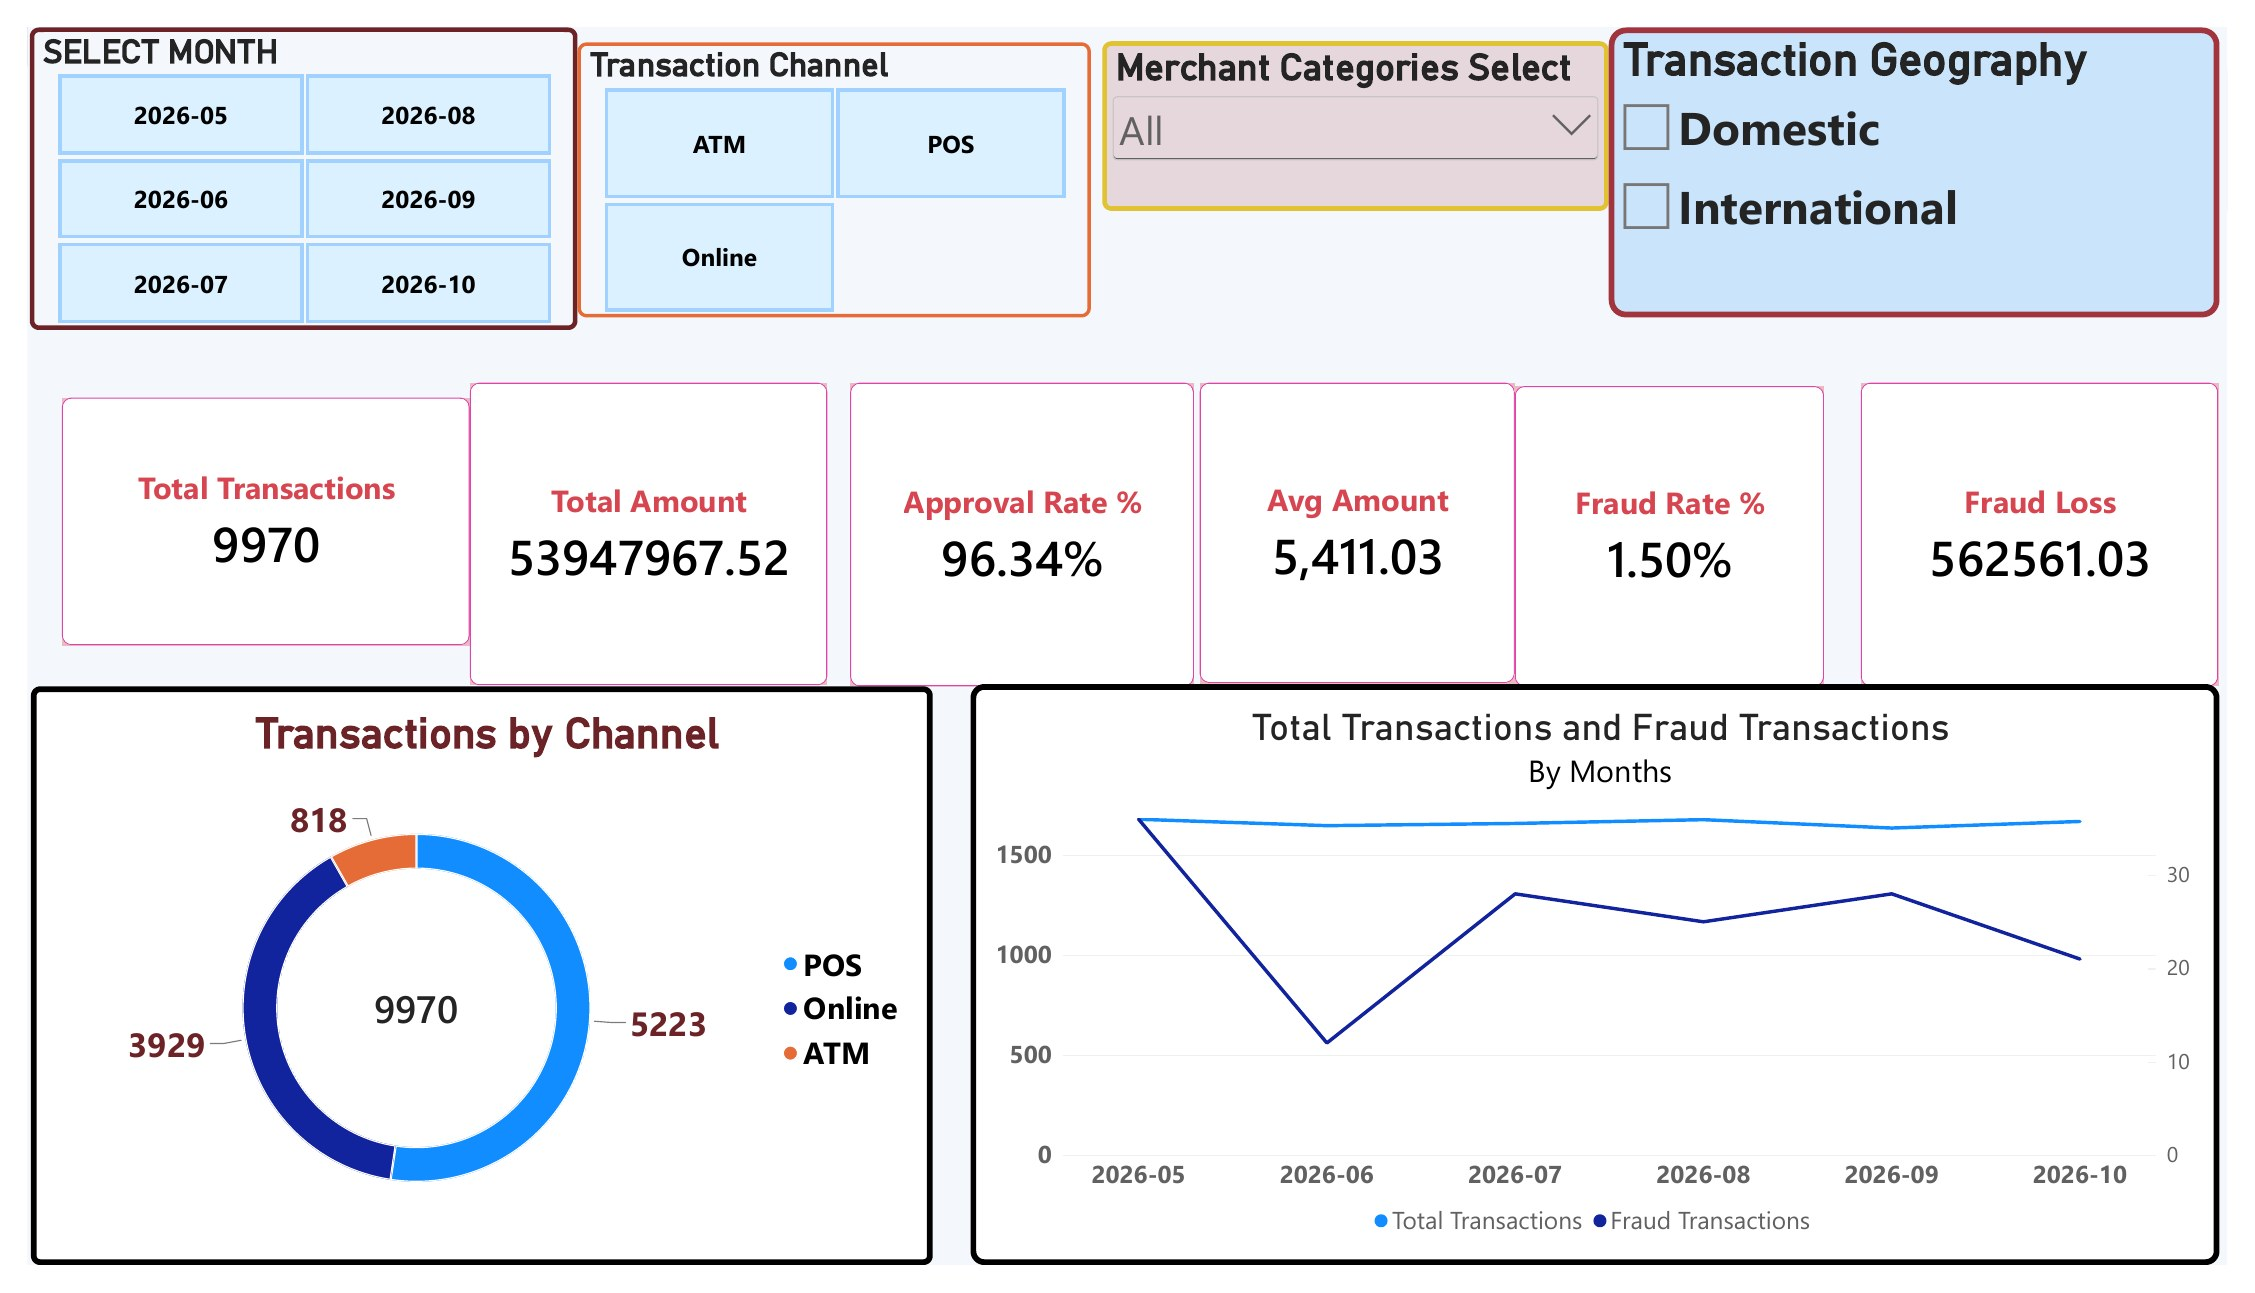

The dashboard page shown, as its layout file describes it:
{"tool":"powerbi","page":{"name":"Executive Overview","canvas":[1920,1080],"ordinal":0},"visuals":[{"type":"slicer","fields":{"Values":["cc.Txn_Month"]},"box":[2,0,478.4,264.5],"z":0},{"type":"slicer","fields":{"Values":["cc.Transaction_Channel"]},"box":[480,12.5,447.5,240],"z":1000},{"type":"slicer","fields":{"Values":["cc.Merchant_Category"]},"box":[938,12,442,148],"z":2000},{"type":"slicer","fields":{"Values":["cc.Domestic_International_Flag"]},"box":[1380,0,532.5,252.5],"z":3000},{"type":"cardVisual","fields":{"Data":["cc.Total Transactions"]},"box":[30,323.3,356.7,216.7],"z":4000},{"type":"cardVisual","fields":{"Data":["cc.Total Amount"]},"box":[386,310,312,264],"z":5000},{"type":"cardVisual","fields":{"Data":["cc.Avg Amount"]},"box":[1022.5,310,275,262.5],"z":6000},{"type":"cardVisual","fields":{"Data":["cc.Approval Rate %"]},"box":[717.5,310,300,265],"z":7000},{"type":"cardVisual","fields":{"Data":["cc.Fraud Rate %"]},"box":[1297.5,312.5,270,262.5],"z":8000},{"type":"cardVisual","fields":{"Data":["cc.Fraud Loss"]},"box":[1600,310,312.5,265],"z":9000},{"type":"lineChart","title":"Total Transactions and Fraud Transactions","fields":{"Category":["cc.Txn_Month"],"Y":["cc.Total Transactions"],"Y2":["cc.Fraud Transactions"]},"box":[822.5,572.5,1090,507.5],"z":10000},{"type":"donutChart","title":"Transactions by Channel","fields":{"Category":["cc.Transaction_Channel"],"Y":["CountNonNull(cc.Transaction_Channel)"]},"box":[2.5,575,787.5,505],"z":11000}]}

Visuals, with their boxes in screenshot pixels (x1, y1, x2, y2), scaled from the page's 1920x1080 canvas onto the 2255x1293 screenshot:
slicer - cc.Txn_Month: {"left": 2, "top": 0, "right": 564, "bottom": 317}
slicer - cc.Transaction_Channel: {"left": 564, "top": 15, "right": 1089, "bottom": 302}
slicer - cc.Merchant_Category: {"left": 1102, "top": 14, "right": 1621, "bottom": 192}
slicer - cc.Domestic_International_Flag: {"left": 1621, "top": 0, "right": 2246, "bottom": 302}
cardVisual - cc.Total Transactions: {"left": 35, "top": 387, "right": 454, "bottom": 646}
cardVisual - cc.Total Amount: {"left": 453, "top": 371, "right": 820, "bottom": 687}
cardVisual - cc.Avg Amount: {"left": 1201, "top": 371, "right": 1524, "bottom": 685}
cardVisual - cc.Approval Rate %: {"left": 843, "top": 371, "right": 1195, "bottom": 688}
cardVisual - cc.Fraud Rate %: {"left": 1524, "top": 374, "right": 1841, "bottom": 688}
cardVisual - cc.Fraud Loss: {"left": 1879, "top": 371, "right": 2246, "bottom": 688}
"Total Transactions and Fraud Transactions" lineChart: {"left": 966, "top": 685, "right": 2246, "bottom": 1292}
"Transactions by Channel" donutChart: {"left": 3, "top": 688, "right": 928, "bottom": 1292}
